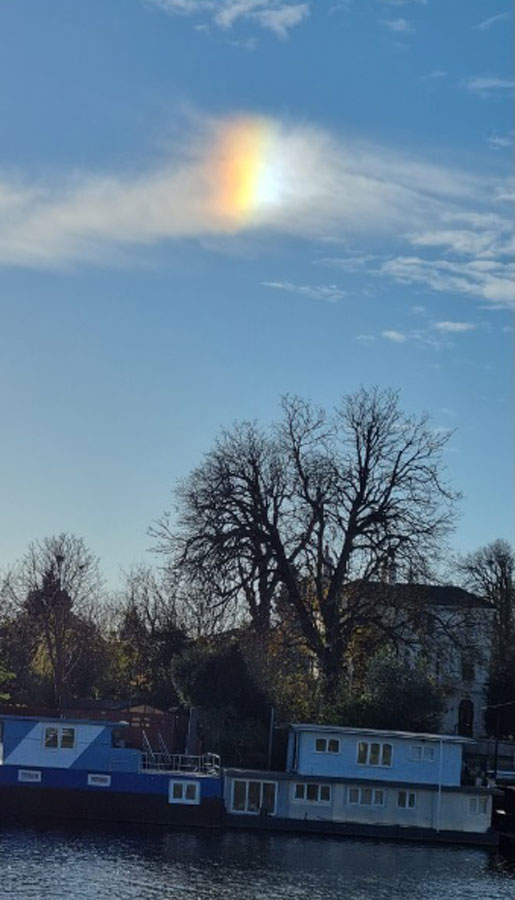Cirrus: (10, 65, 512, 338)
